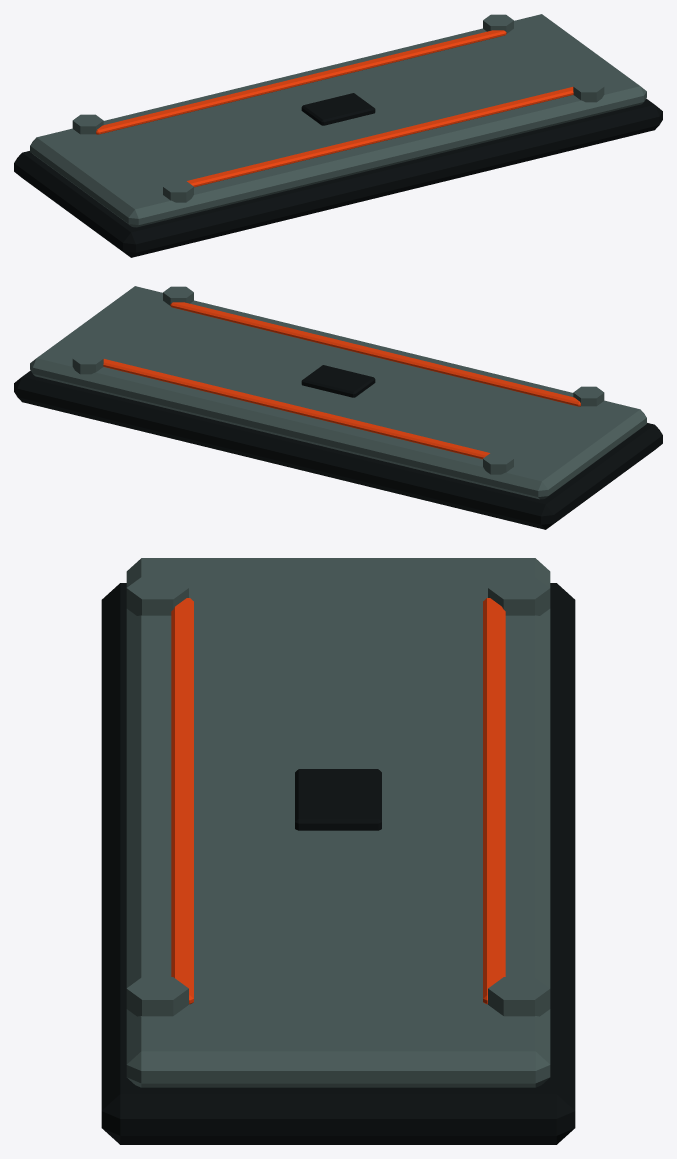
File: SM_MP_Station_TrenchRun.fbx
The picture shows the model from 3 angles, top to bottom: view 1: azimuth 30°, elevation 25°; view 2: azimuth 150°, elevation 25°; view 3: azimuth 270°, elevation 25°; orthographic projection. The views are drawn at different scales.
Parts seen in each view (by area): view 1: SM_MP_Station_TrenchRun; view 2: SM_MP_Station_TrenchRun; view 3: SM_MP_Station_TrenchRun.
Part boxes in pixels (x1,y1,x2,y2): SM_MP_Station_TrenchRun: (14,14,662,257); SM_MP_Station_TrenchRun: (14,286,662,529); SM_MP_Station_TrenchRun: (101,558,575,1144).
Size of the model in its own units: 100 by 38 by 8.95.
1 material, 1 textured.
